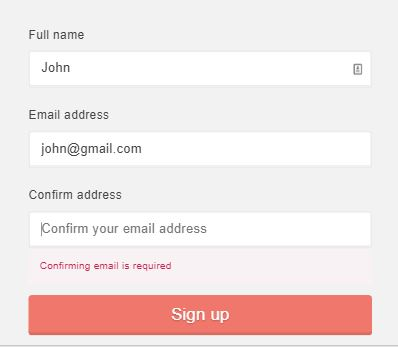_form_: (1, 1, 398, 347)
button: (27, 293, 373, 336)
field: (28, 48, 374, 89), (28, 130, 373, 171), (28, 210, 373, 249)
